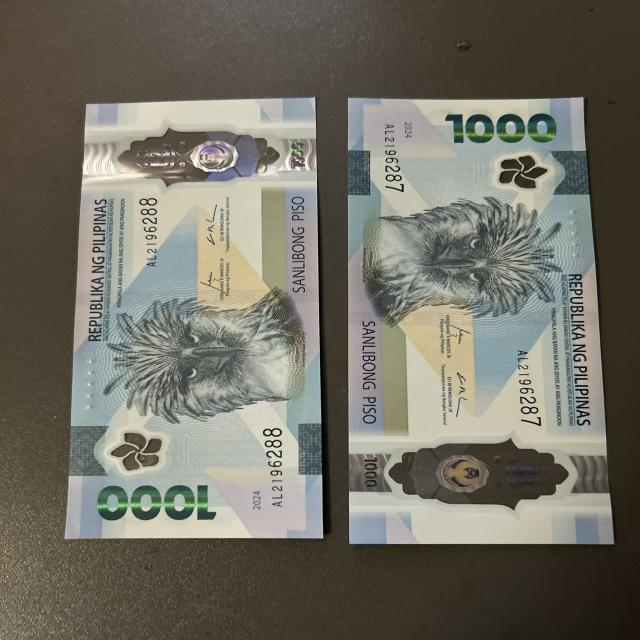clear_window: (375, 431, 570, 514), (108, 122, 274, 199)
eagle: (102, 297, 314, 419), (363, 200, 562, 312)
sampaguita: (104, 428, 171, 476), (482, 152, 553, 192)
serial_number: (506, 346, 552, 425), (258, 427, 294, 512), (131, 196, 171, 267), (379, 118, 408, 194)
value: (81, 482, 233, 524), (440, 108, 565, 146)
